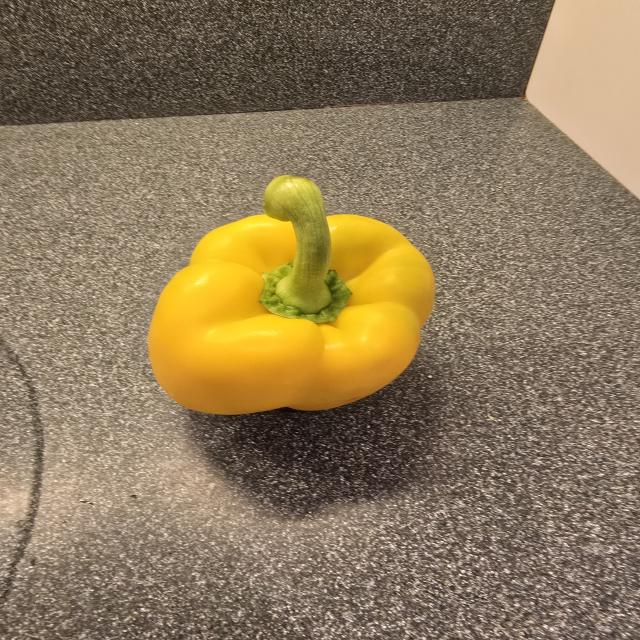Bell Pepper: (141, 167, 446, 422)
